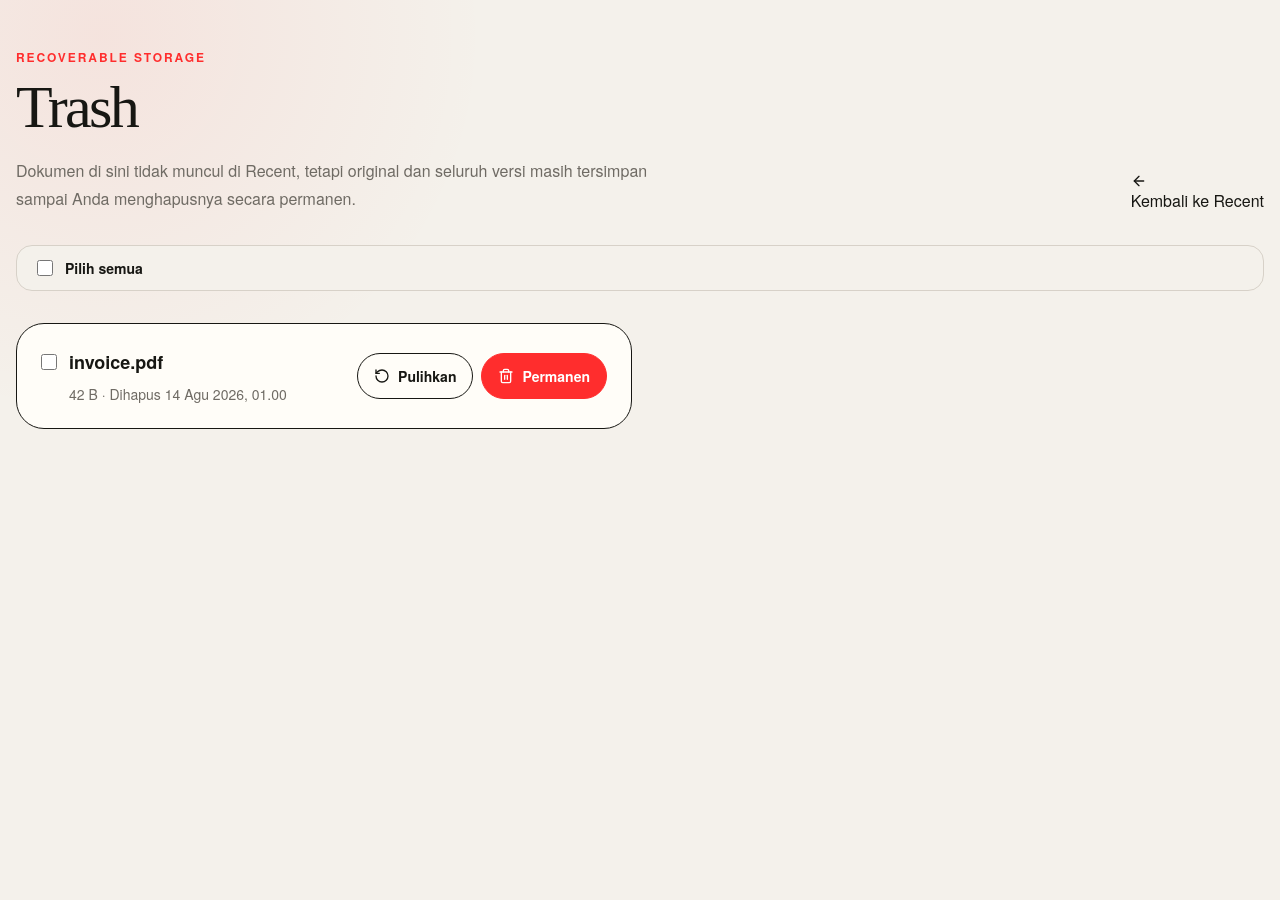
Scenario: TrashPage › names the documents a partial purge left behind
The width and height of the screenshot is (1280, 900).
Click the checkbox named "Pilih semua dokumen di Trash".
click(45, 268)  # box [37,260,53,276]
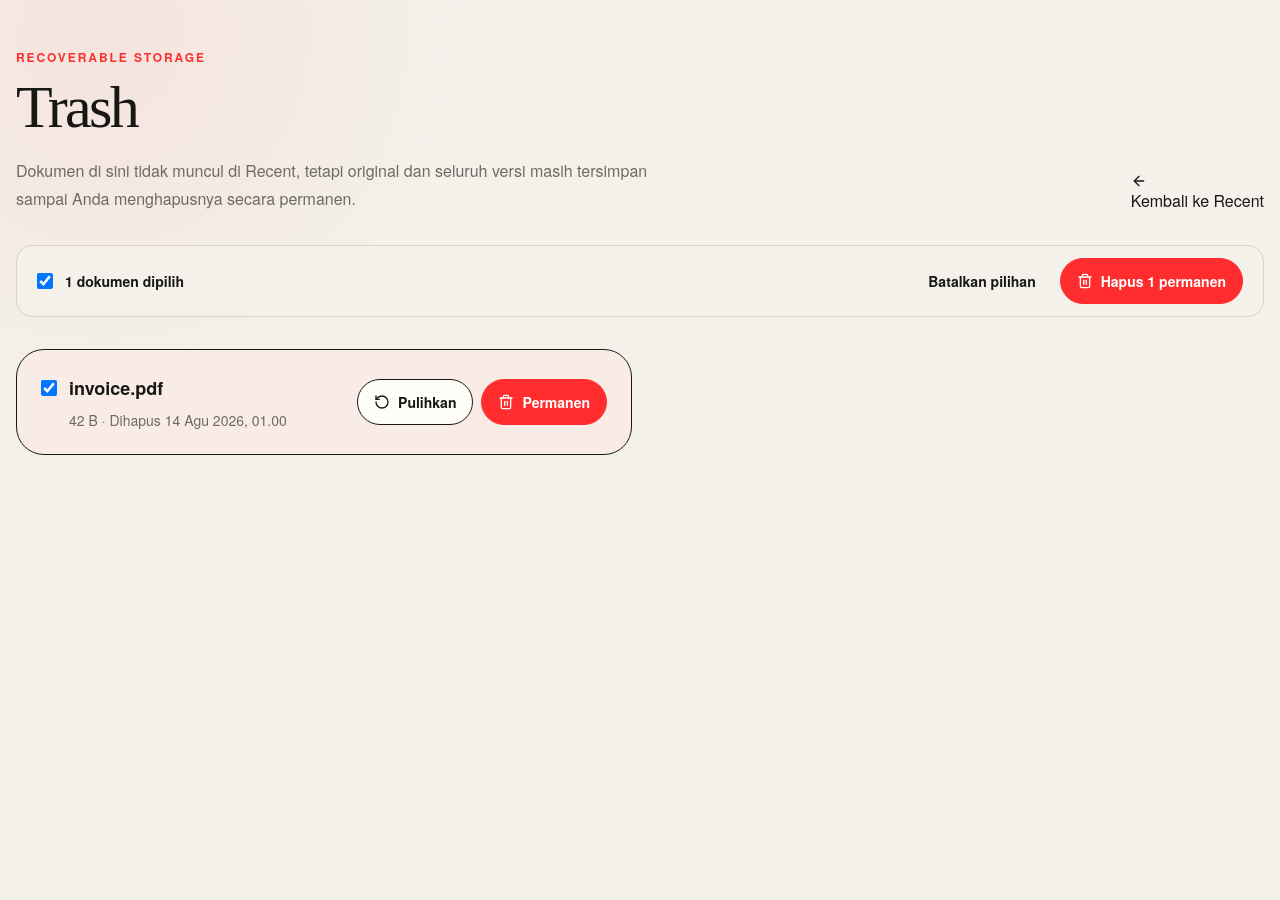
Click the button "Hapus 1 permanen".
click(1151, 281)  # box [1060,258,1243,304]
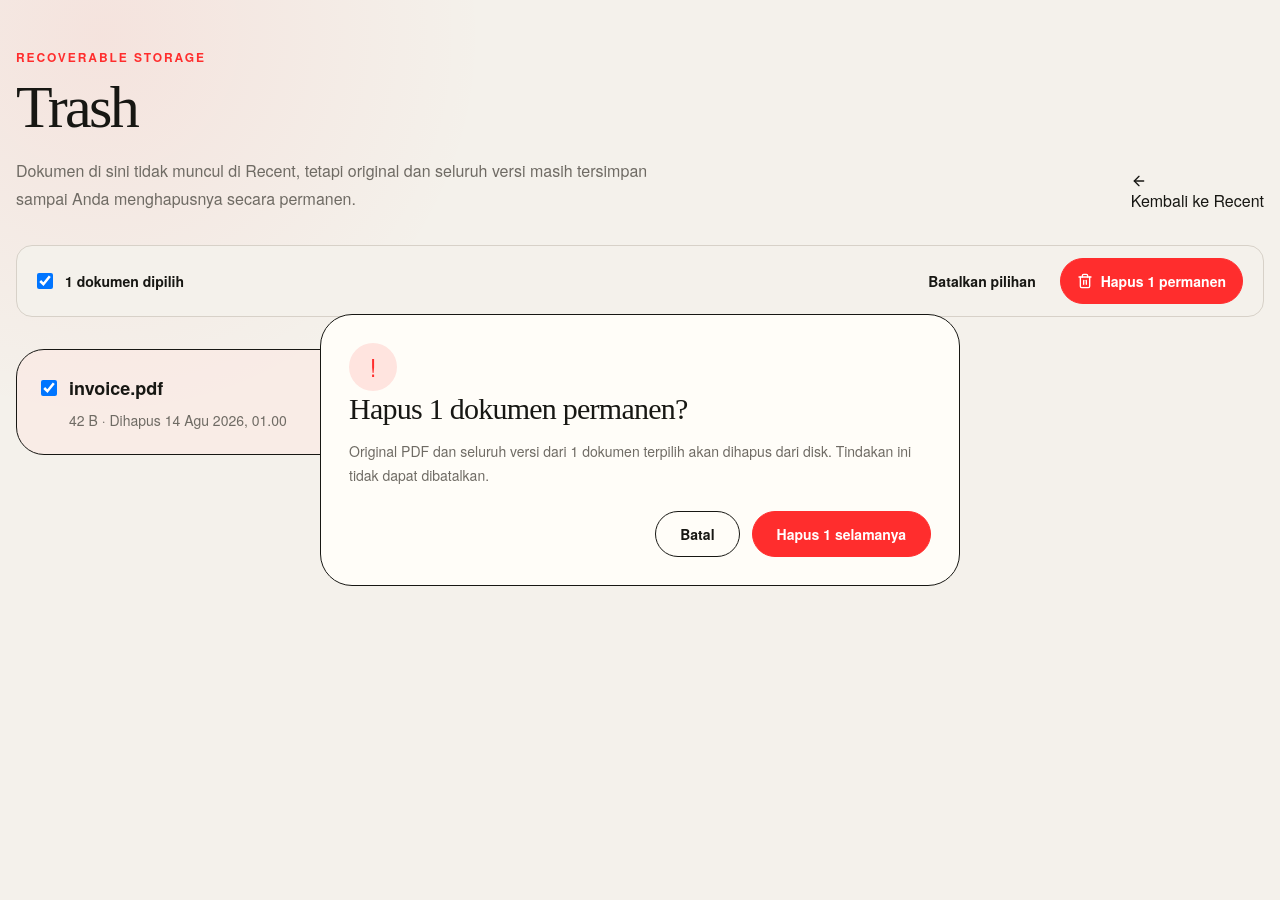
Click the button "Hapus 1 selamanya".
click(841, 534)  # box [752,511,931,557]
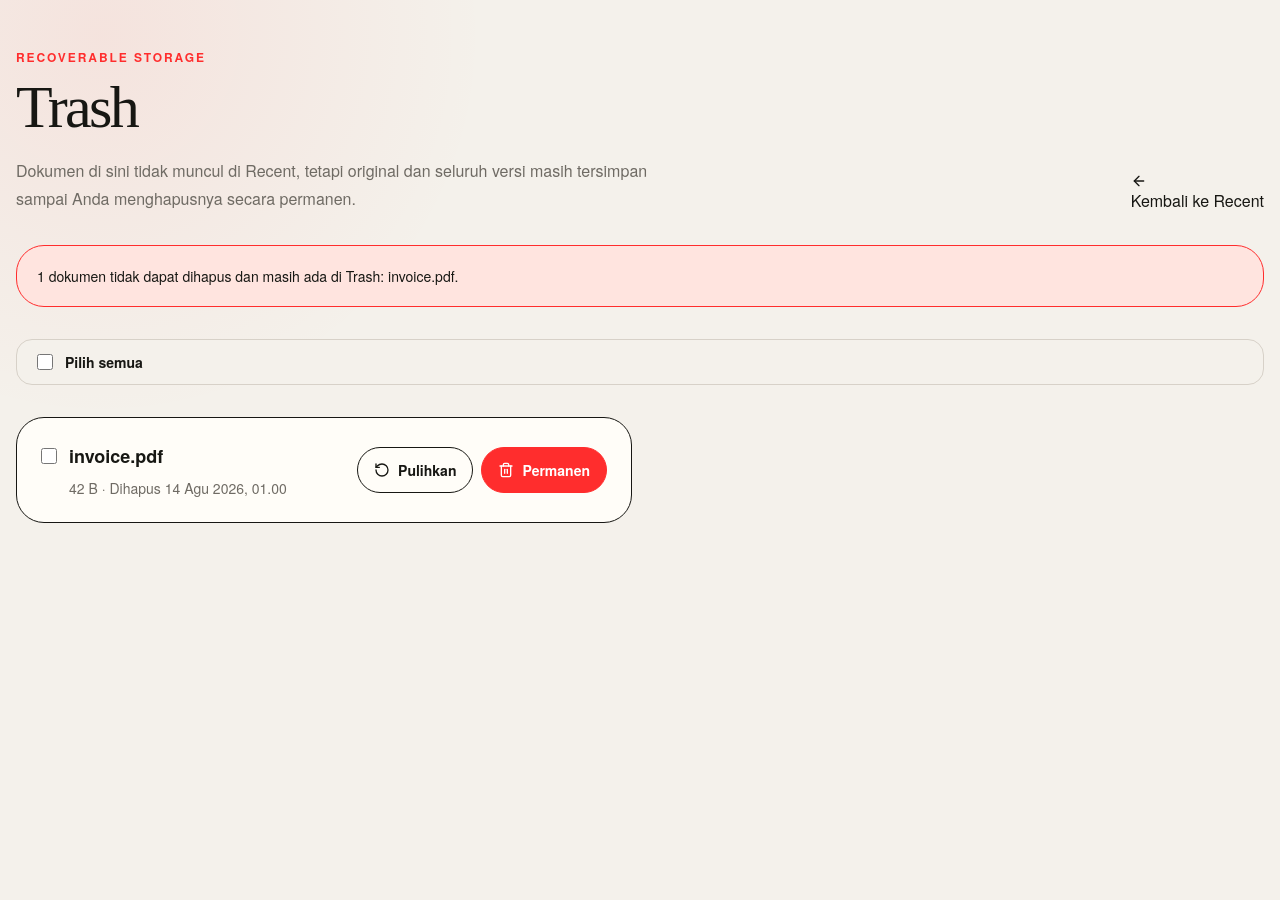
Expected: the message reads "1 dokumen tidak dapat dihapus dan masih ada di Trash: invoice.pdf.", [16,245,1264,307]
